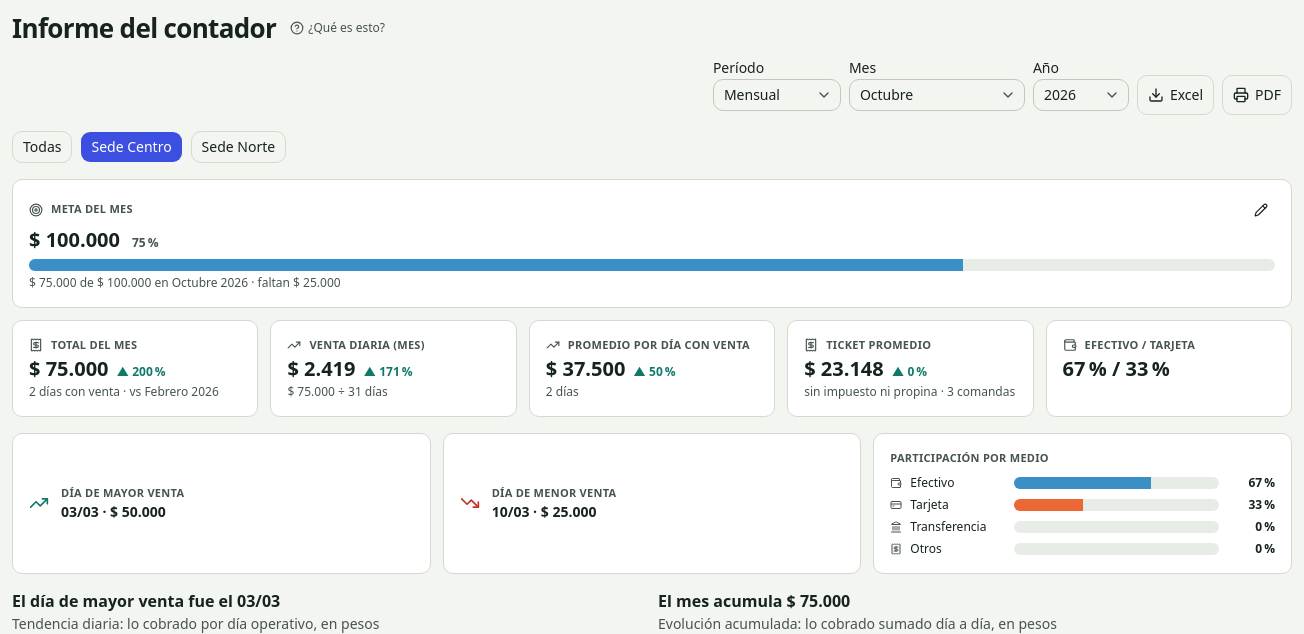
Scenario: la meta del mes › si el servidor rechaza la meta, vuelve a la de antes y lo dice
Expected: the text "$ 100.000" is shown, [29, 230, 120, 250]
Click the button named "Editar meta" at (1261, 210), box [1247, 196, 1275, 224]
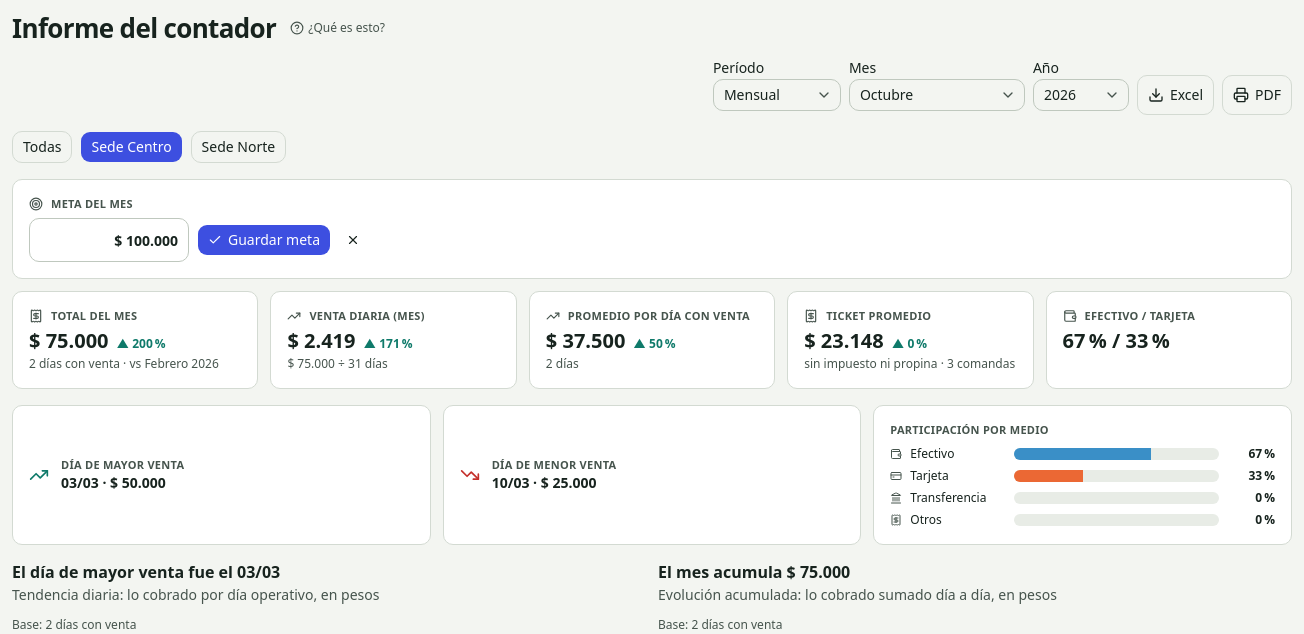
Replace the text in the field named "Meta del mes" with "50000" at (109, 240), box [29, 218, 189, 262]
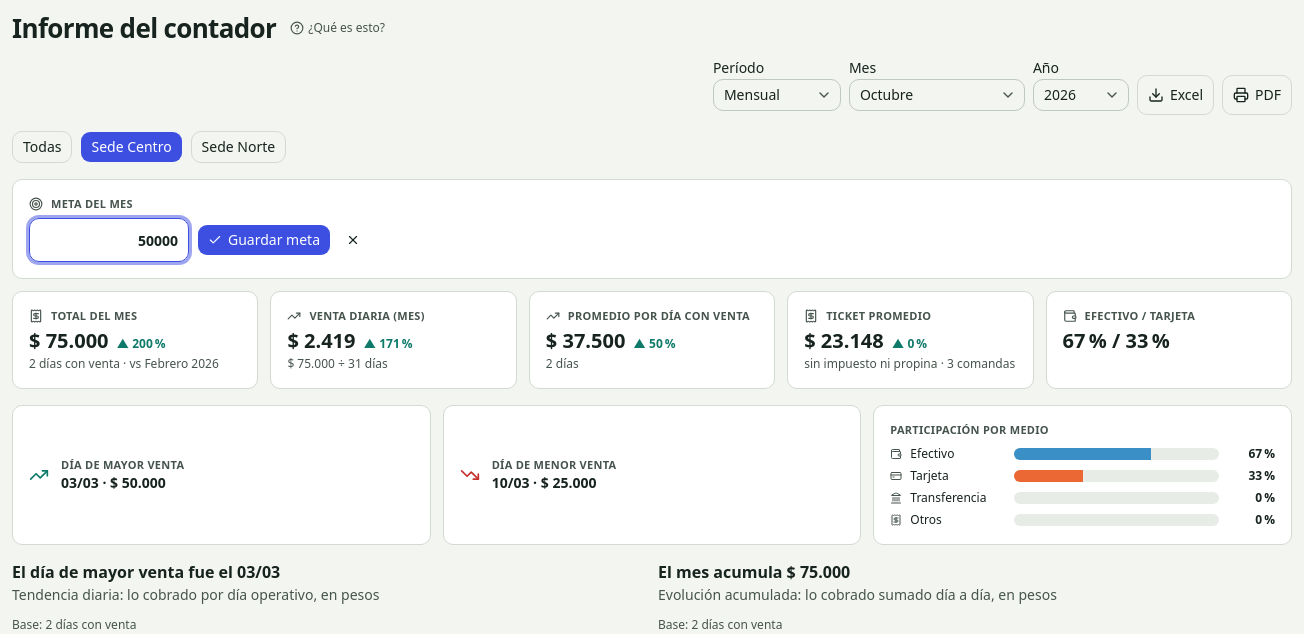
Click the button "Guardar meta" at (264, 240), box [197, 224, 331, 256]
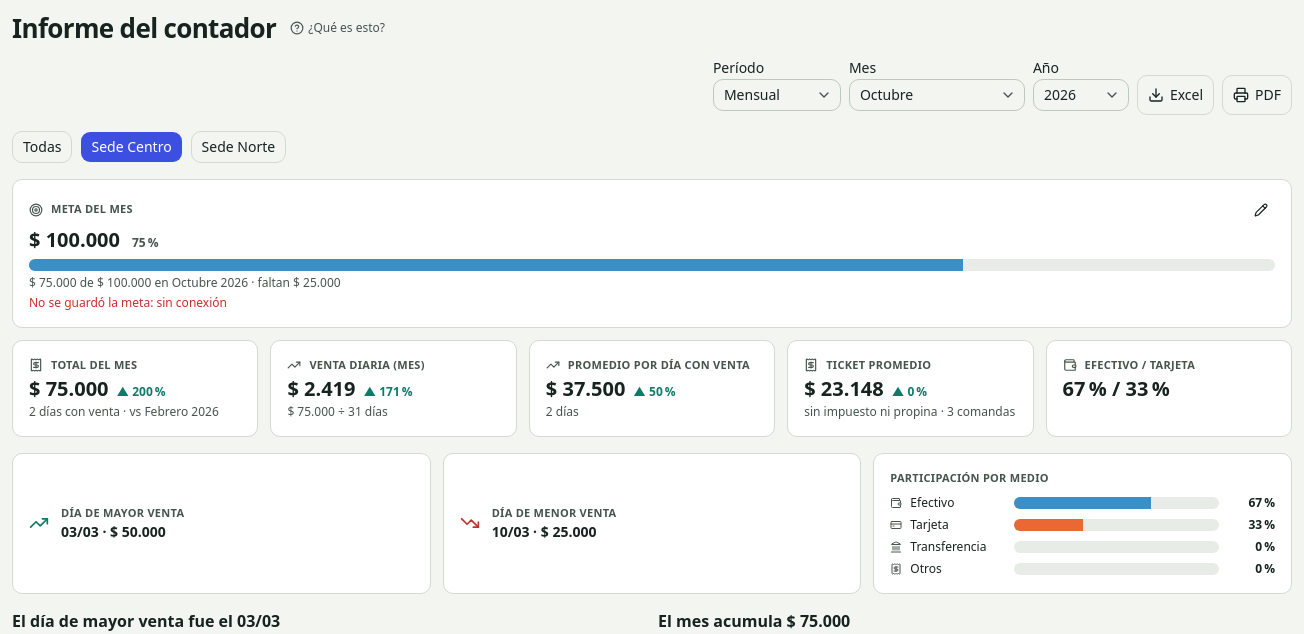
Now the message shows "No se guardó la meta", box [29, 294, 227, 310]
Now the text "$ 100.000" is shown, box [29, 230, 120, 250]
Now the text "$ 75.000 de $ 100.000 en Octubre 2026 · faltan $ 25.000" is shown, box [29, 274, 341, 290]
